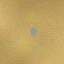person: (30, 27, 37, 36)
structure: (15, 38, 33, 52), (23, 9, 40, 21)
